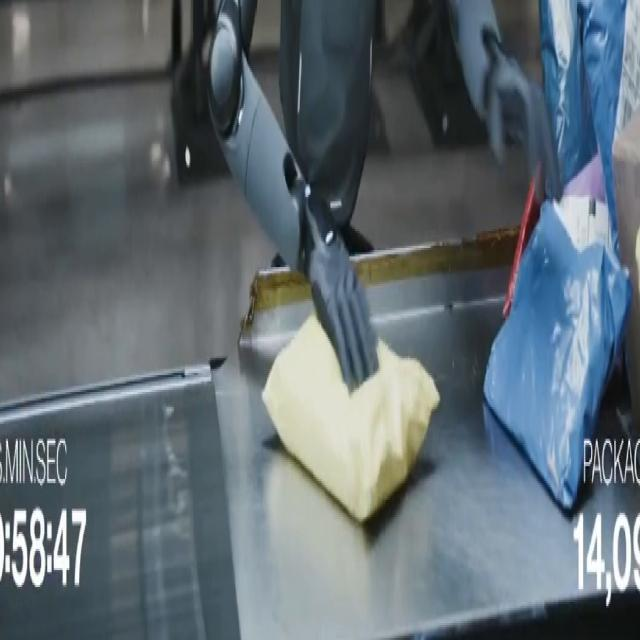package: (484, 204, 630, 510), (263, 316, 439, 523), (577, 0, 639, 252), (539, 0, 597, 184), (613, 111, 639, 430), (503, 181, 540, 317), (564, 155, 606, 203)
